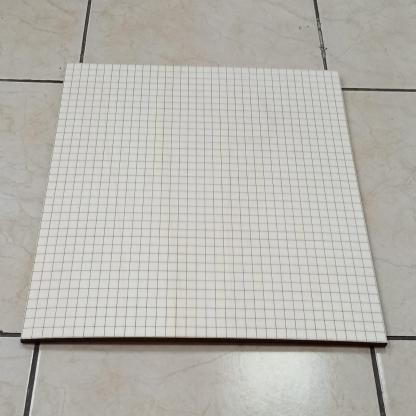grid: (19, 54, 390, 354)
